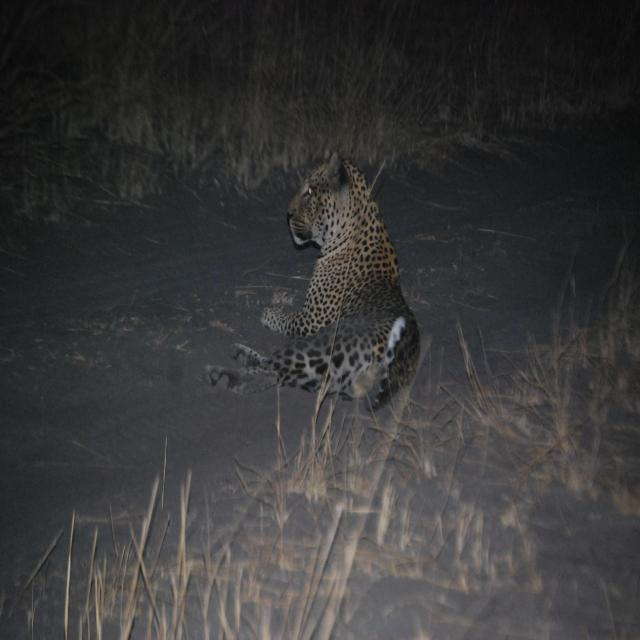Leopard: (222, 136, 456, 430)
